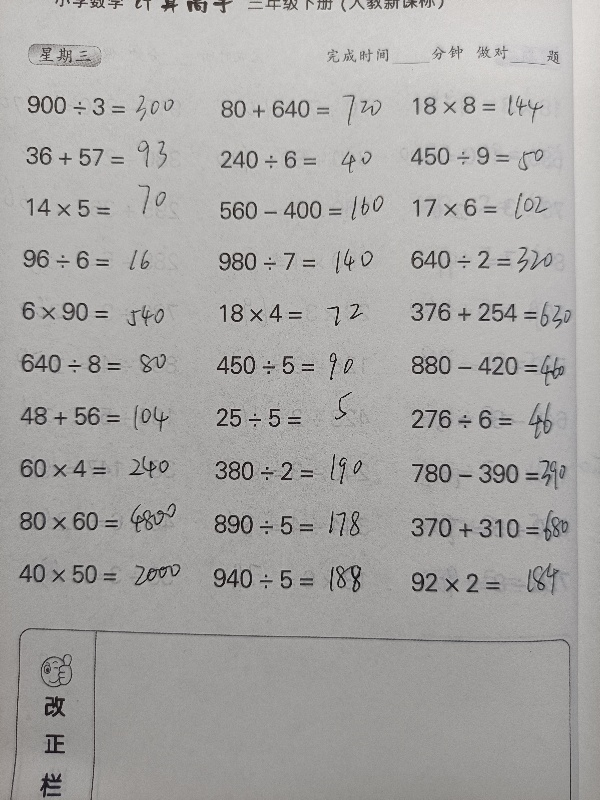equation: (403, 503, 583, 549), (403, 348, 583, 394), (20, 182, 197, 228), (11, 496, 191, 541), (403, 448, 583, 493), (403, 239, 583, 281), (402, 292, 582, 333), (19, 88, 199, 129), (404, 84, 584, 125), (211, 190, 391, 229), (402, 138, 582, 176), (403, 564, 583, 600), (204, 560, 384, 596), (205, 507, 385, 542), (207, 453, 387, 488), (403, 402, 583, 437), (207, 400, 387, 435), (12, 346, 192, 381), (10, 556, 190, 590), (12, 451, 192, 485), (12, 399, 192, 433), (208, 348, 388, 382), (212, 296, 392, 330), (13, 294, 193, 328), (211, 245, 391, 279), (14, 242, 194, 276), (405, 191, 585, 225), (213, 142, 393, 176), (17, 139, 197, 173), (213, 93, 393, 126)
